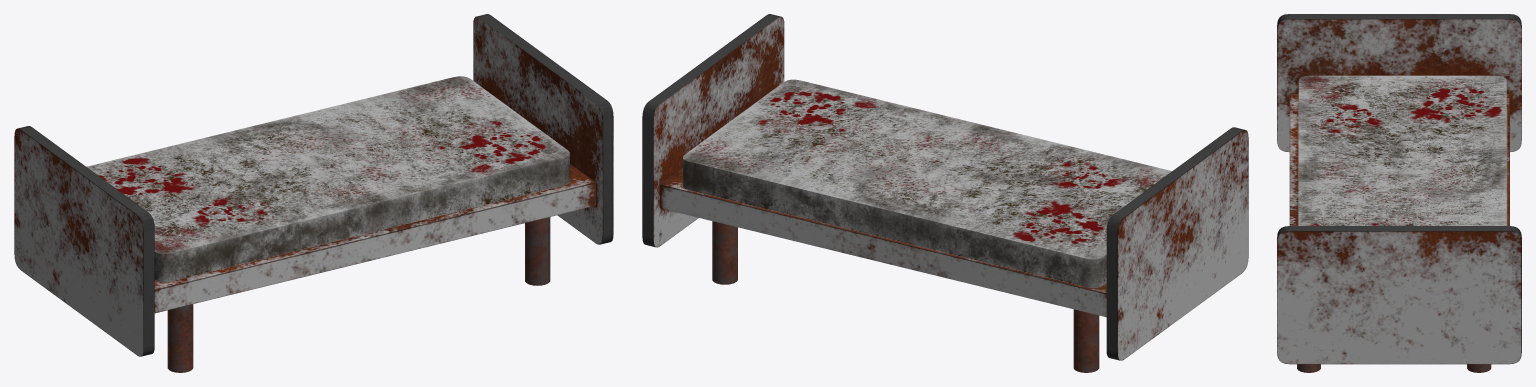
The picture shows the model from 3 angles, left to right: view 1: azimuth 30°, elevation 25°; view 2: azimuth 150°, elevation 25°; view 3: azimuth 270°, elevation 25°; orthographic projection. The views are drawn at different scales.
Visible parts, largest first — view 1: CAMA; view 2: CAMA; view 3: CAMA.
Part boxes in pixels (<box>): CAMA: <box>14,14,613,372</box>; CAMA: <box>642,14,1248,372</box>; CAMA: <box>1277,14,1521,372</box>.
Size of the model in its own units: 210 by 73.95 by 100.
Materials: 3 (3 with a texture image).
